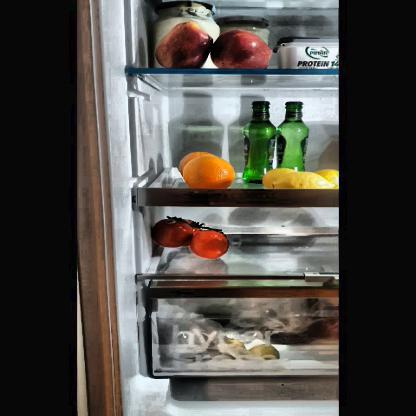apple: (155, 22, 212, 68), (212, 30, 270, 68)
cheese: (276, 37, 340, 68)
lemon: (271, 172, 331, 189)
mineral_water: (242, 102, 274, 180), (278, 100, 308, 169)
orange: (183, 153, 236, 187)
tomato: (190, 230, 229, 258), (153, 217, 191, 245)
